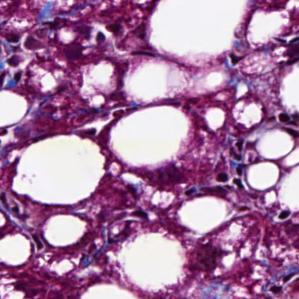inflammation: (0, 32, 52, 90), (210, 138, 255, 194)
